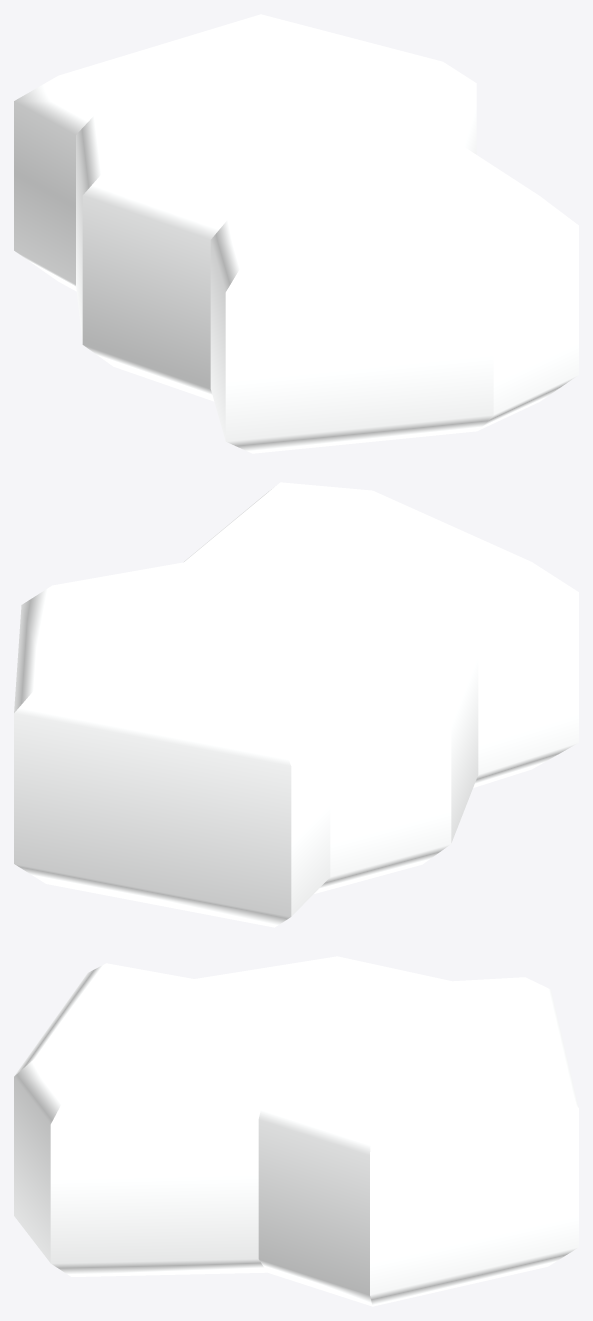
File: ice_floe_small_002.glb
The picture shows the model from 3 angles, top to bottom: view 1: azimuth 30°, elevation 25°; view 2: azimuth 150°, elevation 25°; view 3: azimuth 270°, elevation 25°; orthographic projection. The views are drawn at different scales.
Parts seen in each view (by area): view 1: ice_floe_small_002; view 2: ice_floe_small_002; view 3: ice_floe_small_002.
Part boxes in pixels (left/top/right/bottom): ice_floe_small_002: left=14, top=14, right=578, bottom=453; ice_floe_small_002: left=14, top=482, right=578, bottom=927; ice_floe_small_002: left=14, top=956, right=578, bottom=1306.
Bounding box in the file's own units: 1.45 × 0.6962 × 1.86.
Materials: 1 (1 with a texture image).
